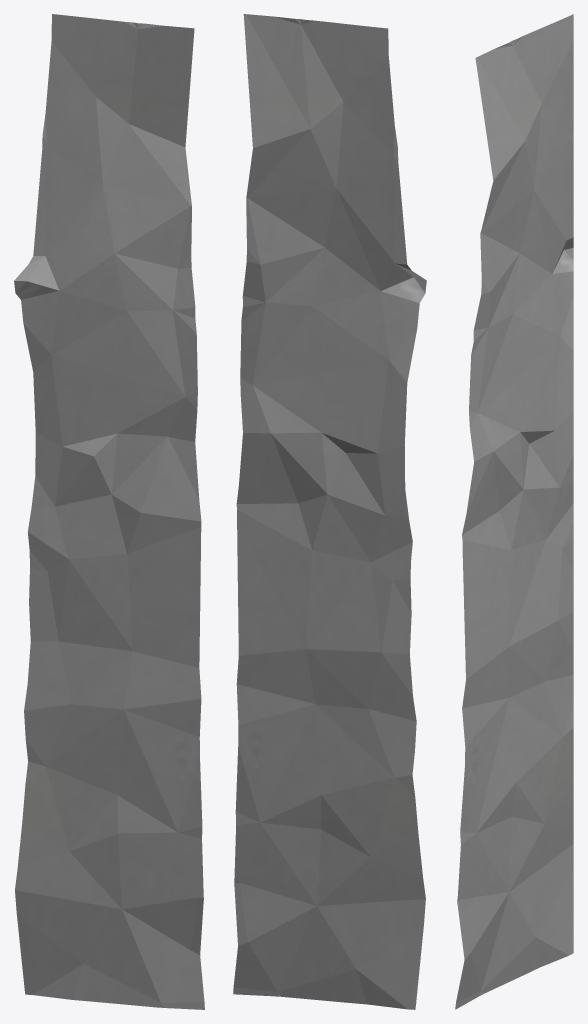
The picture shows the model from 3 angles, left to right: view 1: azimuth 30°, elevation 25°; view 2: azimuth 210°, elevation 25°; view 3: azimuth 270°, elevation 25°; orthographic projection. The views are drawn at different scales.
Size of the model in its own units: 0.2343 by 1.67 by 0.1892.
1 material, 1 textured.
